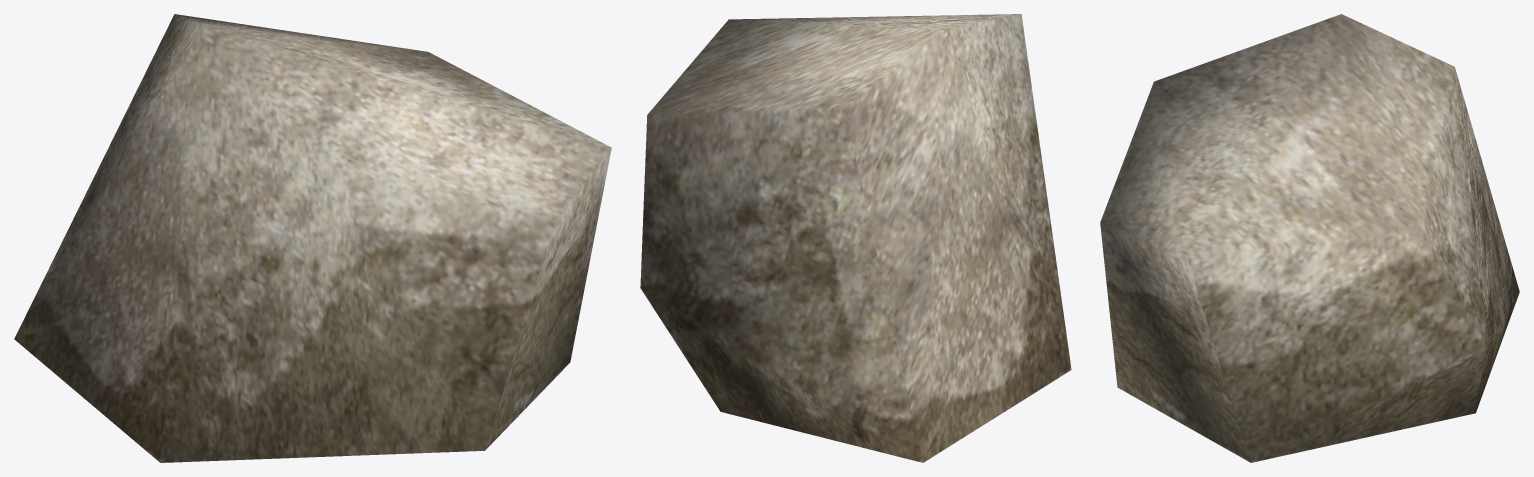
File: Small_Stone2.fbx
3 views of the same model, side by side, from view 1: azimuth 30°, elevation 25°; view 2: azimuth 150°, elevation 25°; view 3: azimuth 270°, elevation 25° (orthographic). The views are drawn at different scales.
Parts seen in each view (by area): view 1: polySurface3; view 2: polySurface3; view 3: polySurface3.
Boxes of the visible parts, x1,y1,x2,y2 form: polySurface3: (14, 14, 611, 462); polySurface3: (640, 14, 1071, 462); polySurface3: (1100, 14, 1519, 462).
Bounding box in the file's own units: 0.1085 × 0.0987 × 0.1126.
